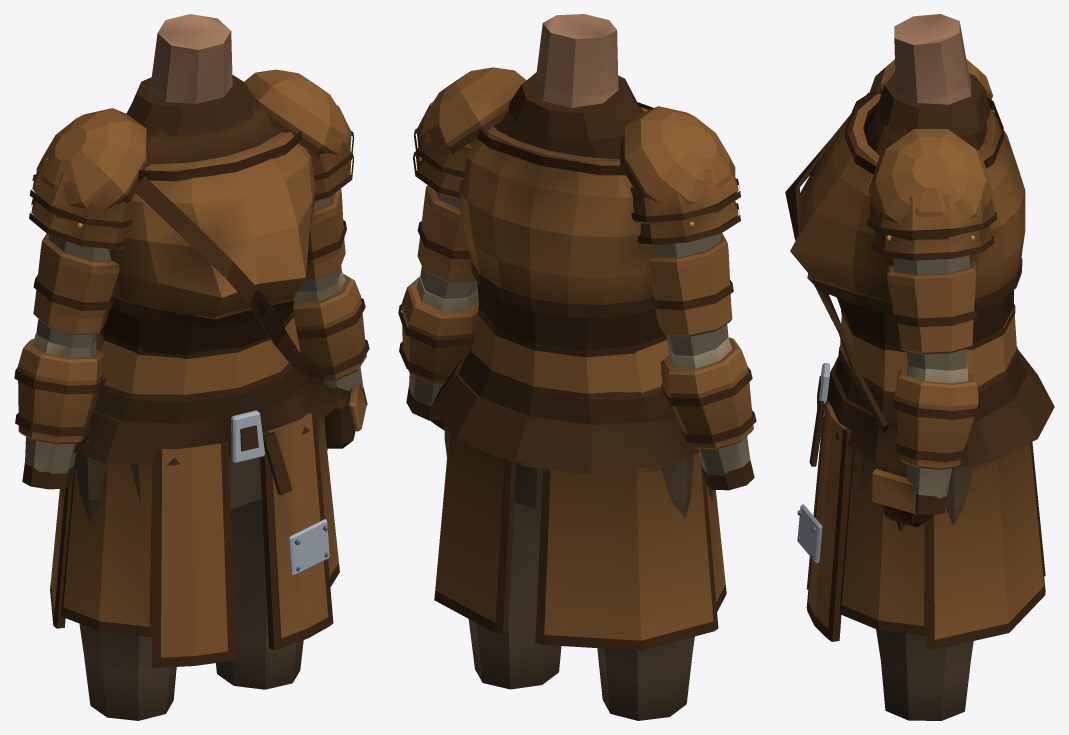
File: a_leather_f.glb
The picture shows the model from 3 angles, left to right: view 1: azimuth 30°, elevation 25°; view 2: azimuth 150°, elevation 25°; view 3: azimuth 270°, elevation 25°; orthographic projection. The views are drawn at different scales.
Visible parts, largest first — view 1: Breast, ArmR_Pauldron, Lames, TassetR0, TassetR1, TassetL0, Neck, Belt, ArmL_Pauldron, LegR_Thigh, LegL_Thigh, ArmR_Vambrace (+14 smaller); view 2: TassetR2, BackPlate, Lames, ArmR_Pauldron, Belt, TassetL2, Neck, ArmL_Pauldron, LegL_Thigh, LegR_Thigh, ArmR_Vambrace, ArmL_Vambrace (+8 smaller); view 3: ArmL_Pauldron, TassetL2, Breast, TassetL1, Lames, Neck, Belt, LegL_Thigh, ArmL_Vambrace, TassetL0, BackPlate, ArmL_Fore (+8 smaller).
Boxes of the visible parts, <box> form: Breast: <box>109,132,315,327</box>; ArmR_Pauldron: <box>29,108,150,334</box>; Lames: <box>94,301,309,423</box>; TassetR0: <box>152,442,236,667</box>; TassetR1: <box>61,463,154,636</box>; TassetL0: <box>260,410,333,650</box>; Neck: <box>126,14,257,136</box>; Belt: <box>74,359,336,495</box>; ArmL_Pauldron: <box>244,69,354,280</box>; LegR_Thigh: <box>61,440,176,720</box>; LegL_Thigh: <box>216,381,327,689</box>; ArmR_Vambrace: <box>14,339,105,444</box>; TassetR2: <box>535,453,718,650</box>; BackPlate: <box>458,126,657,317</box>; Lames: <box>458,283,674,424</box>; ArmR_Pauldron: <box>620,106,740,336</box>; Belt: <box>430,360,699,471</box>; TassetL2: <box>434,432,516,634</box>; Neck: <box>508,14,642,141</box>; ArmL_Pauldron: <box>413,67,526,282</box>; LegL_Thigh: <box>444,382,561,689</box>; LegR_Thigh: <box>597,454,713,720</box>; ArmR_Vambrace: <box>660,337,756,449</box>; ArmL_Vambrace: <box>398,277,478,384</box>; ArmL_Pauldron: <box>867,129,996,354</box>; TassetL2: <box>927,442,1045,649</box>; Breast: <box>790,93,893,314</box>; TassetL1: <box>839,449,926,635</box>; Lames: <box>835,290,1026,420</box>; Neck: <box>876,14,990,137</box>; Belt: <box>809,350,1054,466</box>; LegL_Thigh: <box>858,455,973,720</box>; ArmL_Vambrace: <box>893,368,979,469</box>; TassetL0: <box>806,401,852,641</box>; BackPlate: <box>969,109,1025,310</box>; ArmL_Fore: <box>906,363,968,515</box>.
Size of the model in its own units: 0.5665 by 1.05 by 0.395.
